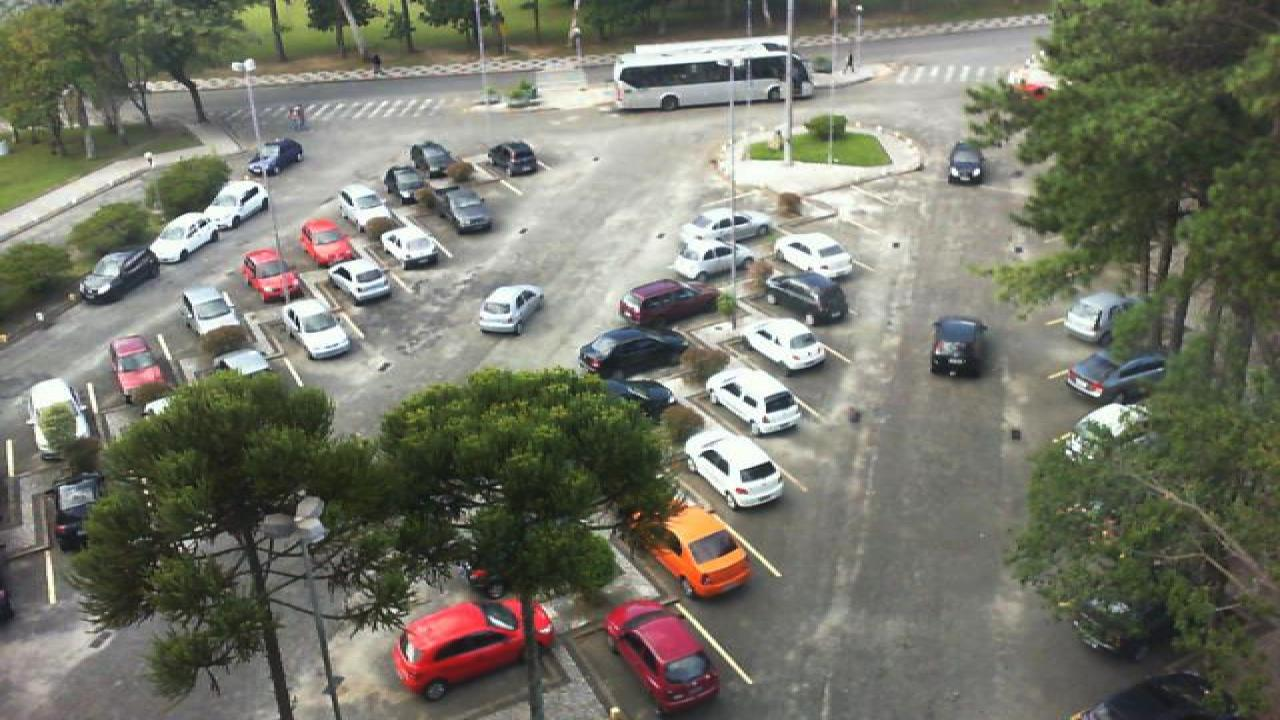Car: (388, 595, 556, 700), (604, 598, 722, 714), (636, 498, 752, 600), (680, 426, 788, 510), (698, 364, 804, 438), (576, 325, 692, 378), (734, 314, 830, 373), (1062, 349, 1170, 400), (24, 377, 88, 460), (618, 277, 724, 327), (760, 269, 852, 325), (76, 250, 164, 304), (108, 333, 174, 403), (282, 296, 354, 360), (52, 472, 108, 550), (770, 230, 856, 280), (144, 212, 226, 264), (1058, 290, 1134, 346), (676, 206, 772, 246), (180, 284, 244, 344), (928, 313, 986, 379), (666, 234, 740, 285), (322, 254, 394, 305), (476, 284, 546, 336), (594, 376, 678, 416), (372, 222, 444, 268), (204, 179, 270, 229), (242, 246, 300, 302), (436, 184, 494, 236), (298, 218, 356, 270), (338, 182, 392, 228), (248, 136, 304, 178), (382, 170, 434, 215), (212, 348, 274, 380), (946, 140, 990, 184), (488, 140, 540, 176), (410, 142, 456, 180)
